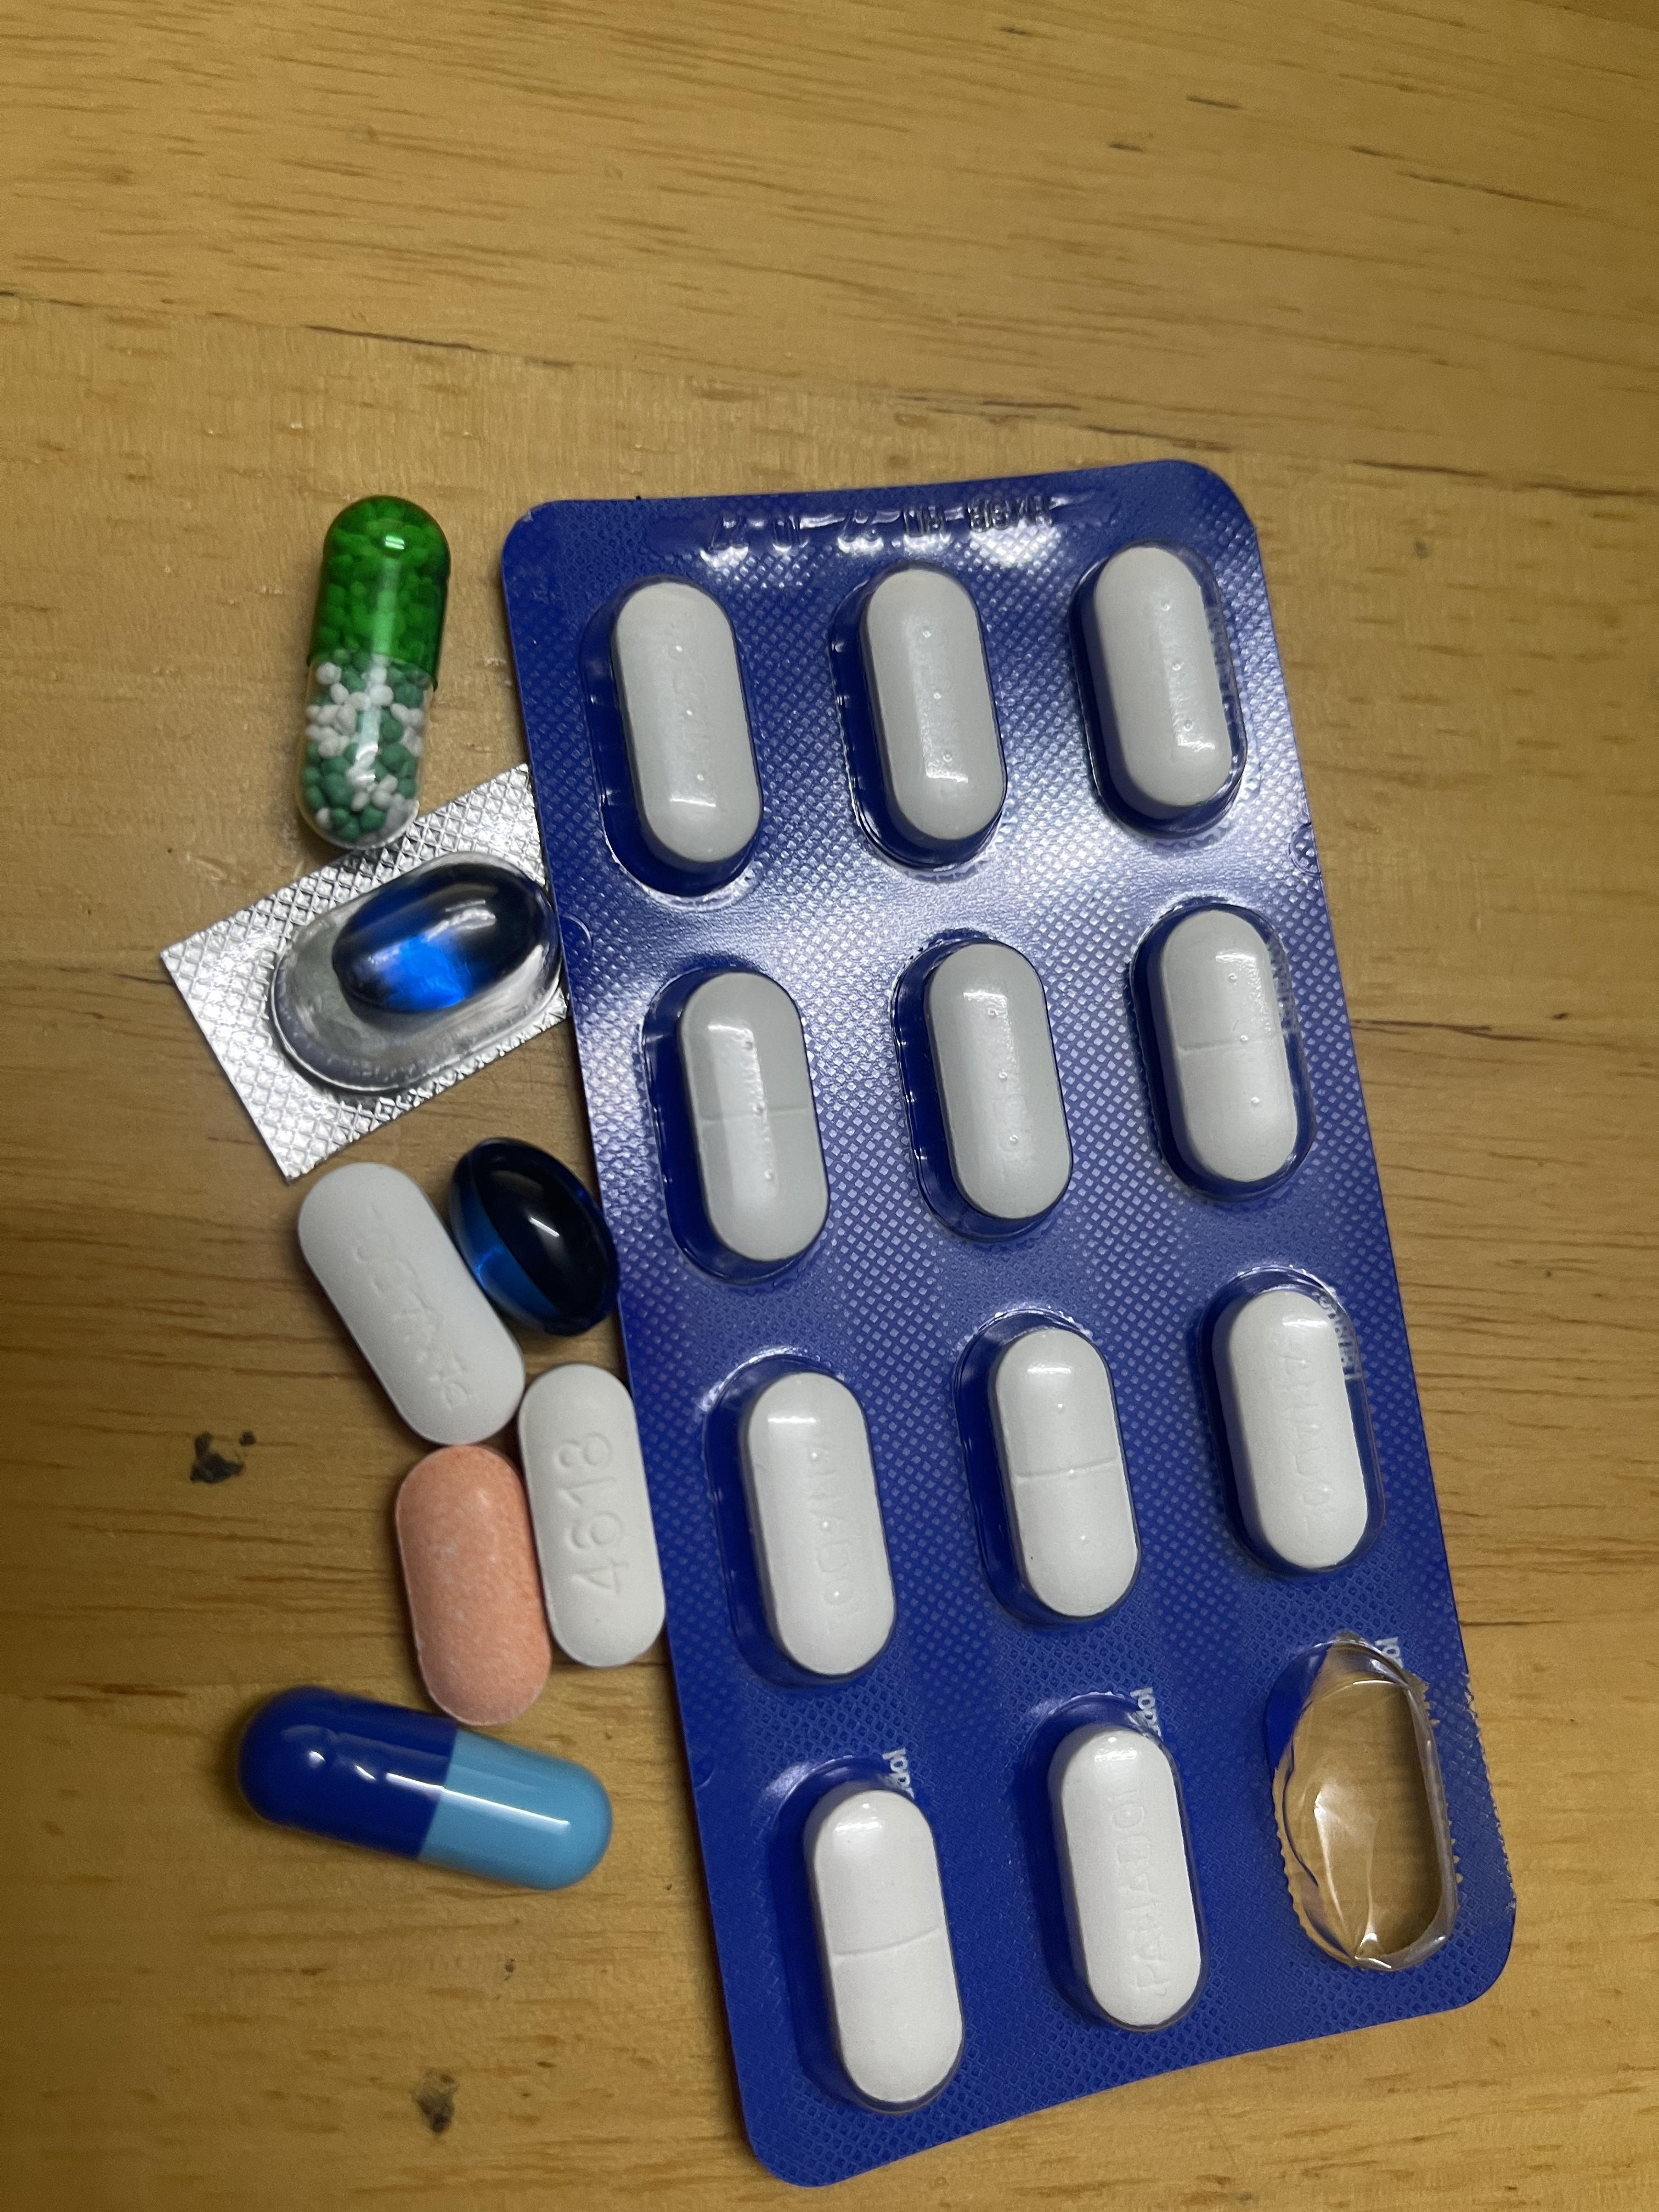Lincomyxin_500mg: (328, 864, 542, 1022), (448, 1141, 620, 1332)
Loratadine_10mg: (397, 1449, 551, 1717)
Paracetamol_350mg: (305, 1165, 519, 1440), (645, 963, 833, 1275), (798, 1775, 965, 2116), (1199, 1268, 1375, 1585), (1039, 1709, 1208, 2036), (1129, 900, 1309, 1207), (903, 935, 1080, 1244), (732, 1364, 897, 1684), (978, 1317, 1145, 1632), (608, 577, 769, 885), (1084, 543, 1239, 824), (859, 568, 1007, 860)
Paracetamol_500mg: (519, 1372, 662, 1660)
Paracetamol_650mg: (301, 502, 444, 841)
pill: (253, 1717, 599, 1888)
